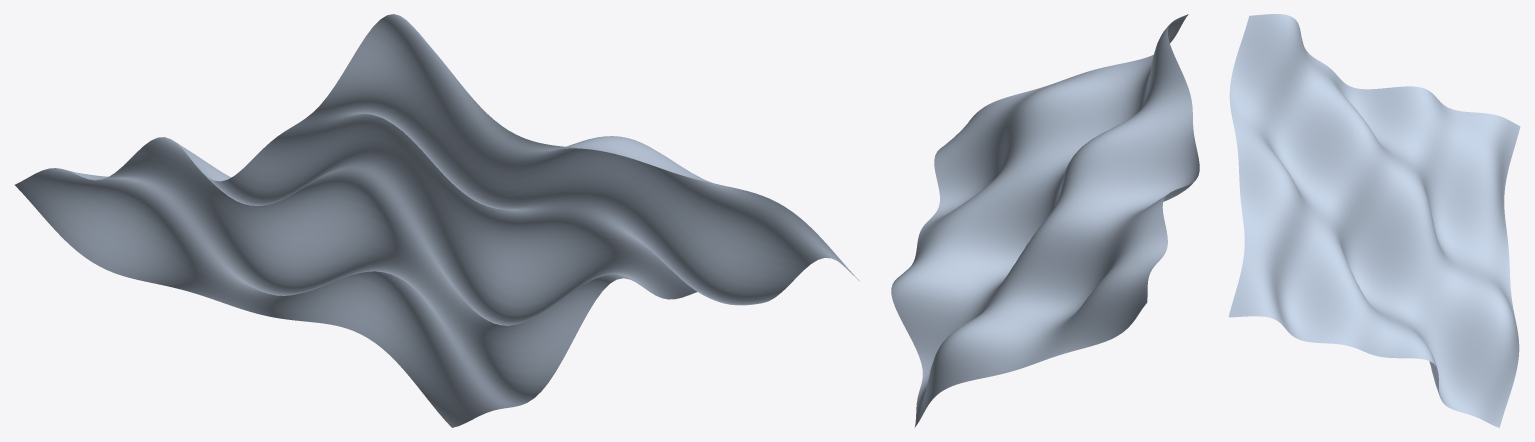
Rendered from terrain.glb.
3 renders of one model, left to right at view 1: azimuth 30°, elevation 25°; view 2: azimuth 150°, elevation 25°; view 3: azimuth 270°, elevation 25°, orthographic. The views are drawn at different scales.
Bounding box in the file's own units: 237 × 236 × 180.
